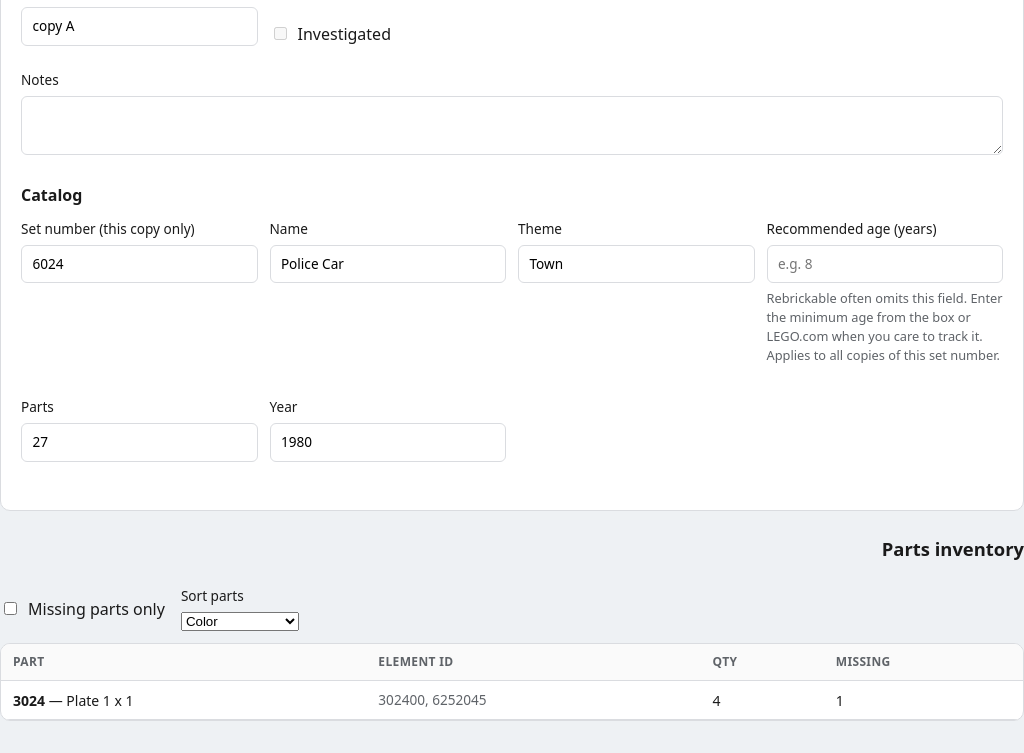
Test case: SetDetailPage › opens read-only part view when clicking a part row in view mode
(page scrolled)
Click the text "3024 — Plate 1 x 1" at (73, 700), box [13,690,134,711]
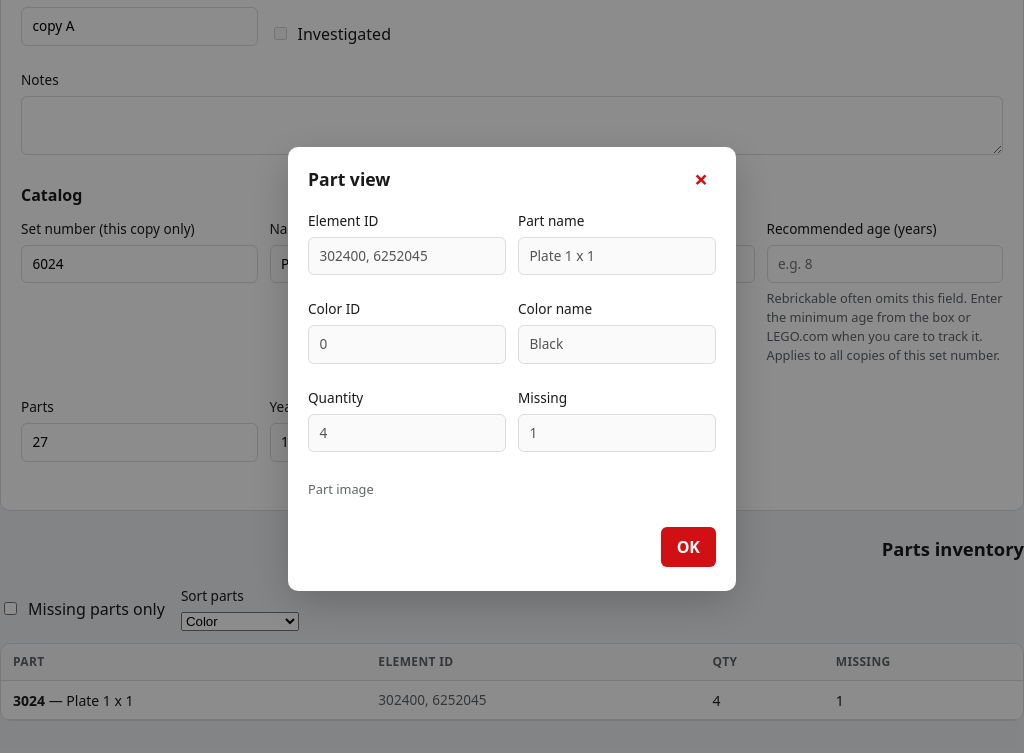
Check: the heading "Part view" is shown, box [308,166,390,192]
Check: the field showing "302400, 6252045" is disabled, box [308,237,506,275]
Check: the button "OK" is shown, box [661,527,716,567]
